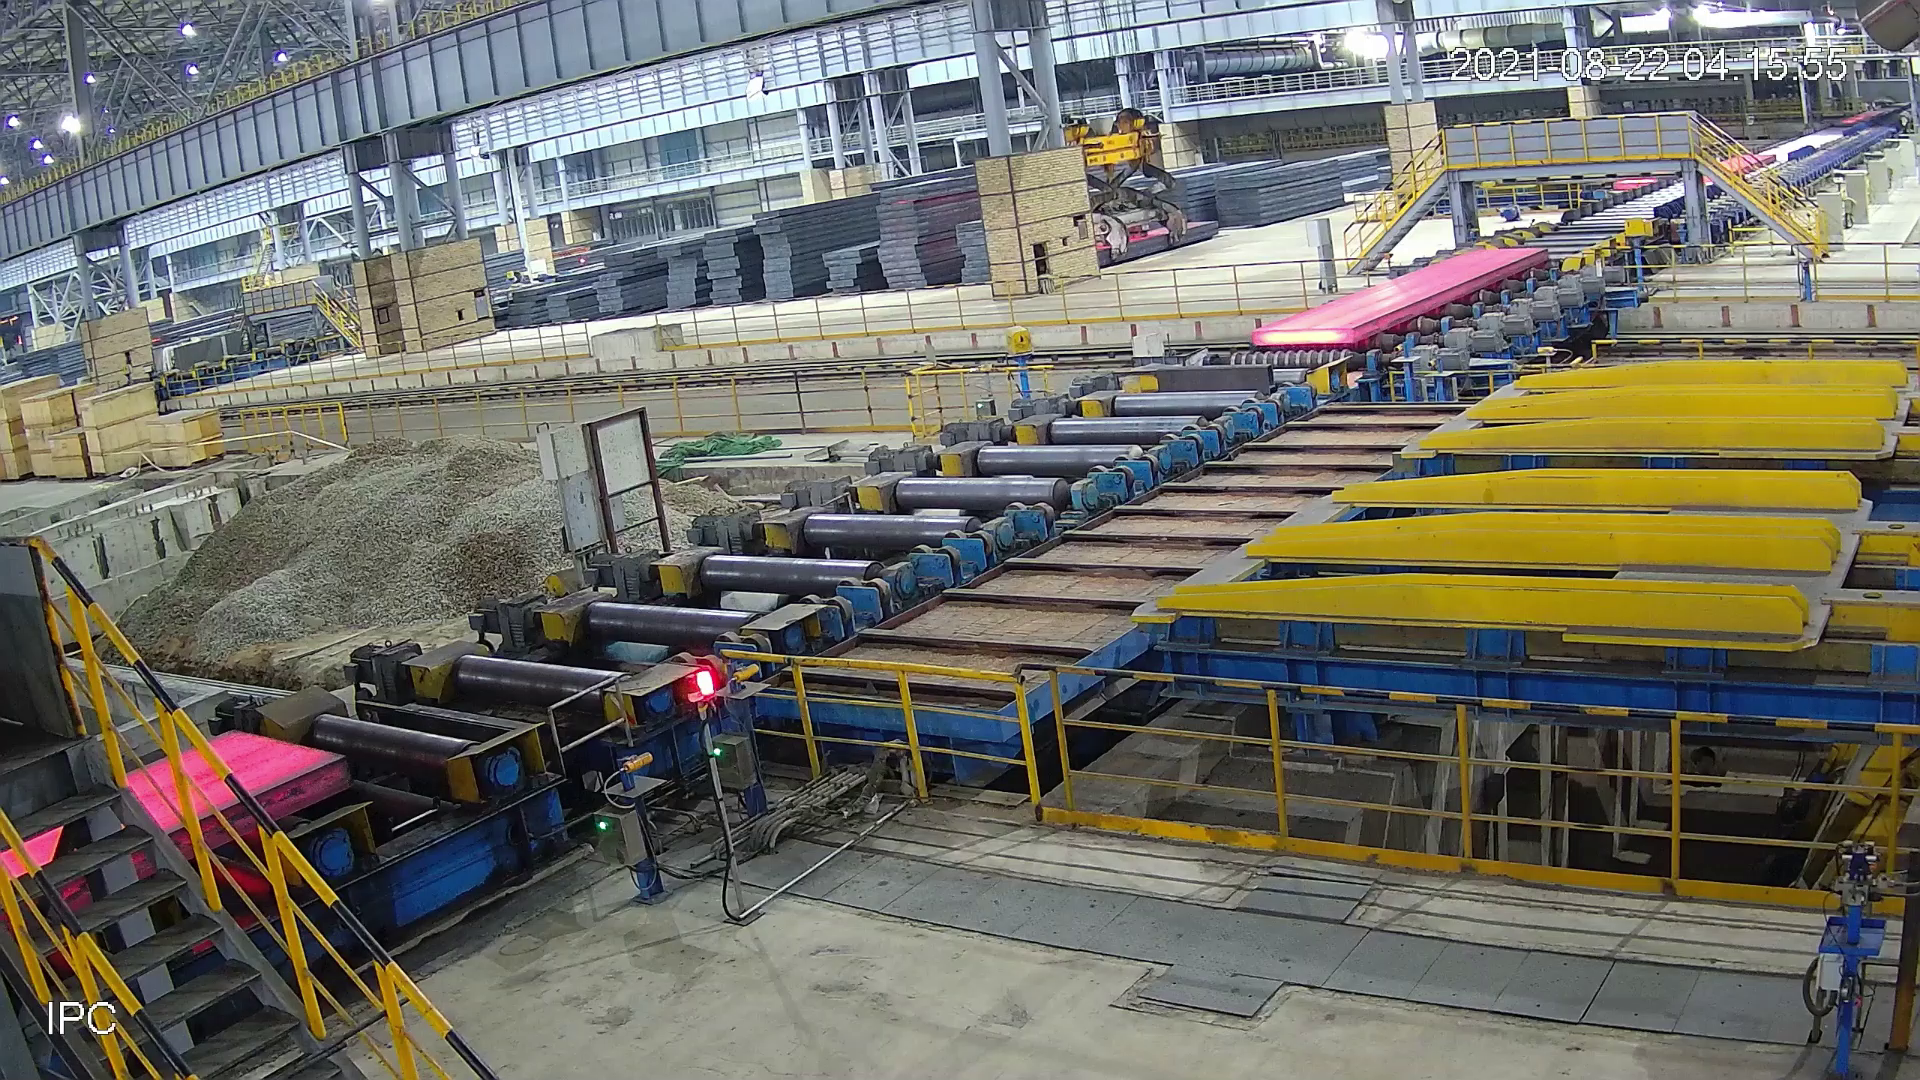slab: (1, 721, 353, 942), (1247, 248, 1549, 349)
